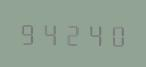four: (40, 19, 61, 46), (84, 20, 105, 47)
nine: (18, 19, 39, 46)
two: (62, 19, 83, 47)
zero: (106, 20, 127, 47)
